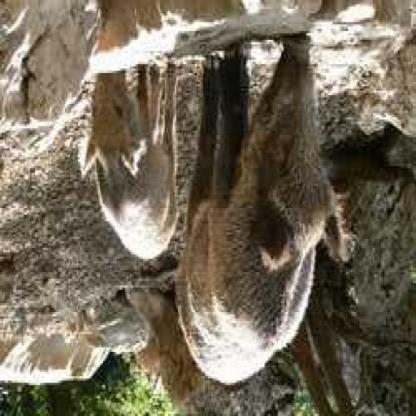boar: (155, 18, 346, 403), (91, 46, 188, 264)
